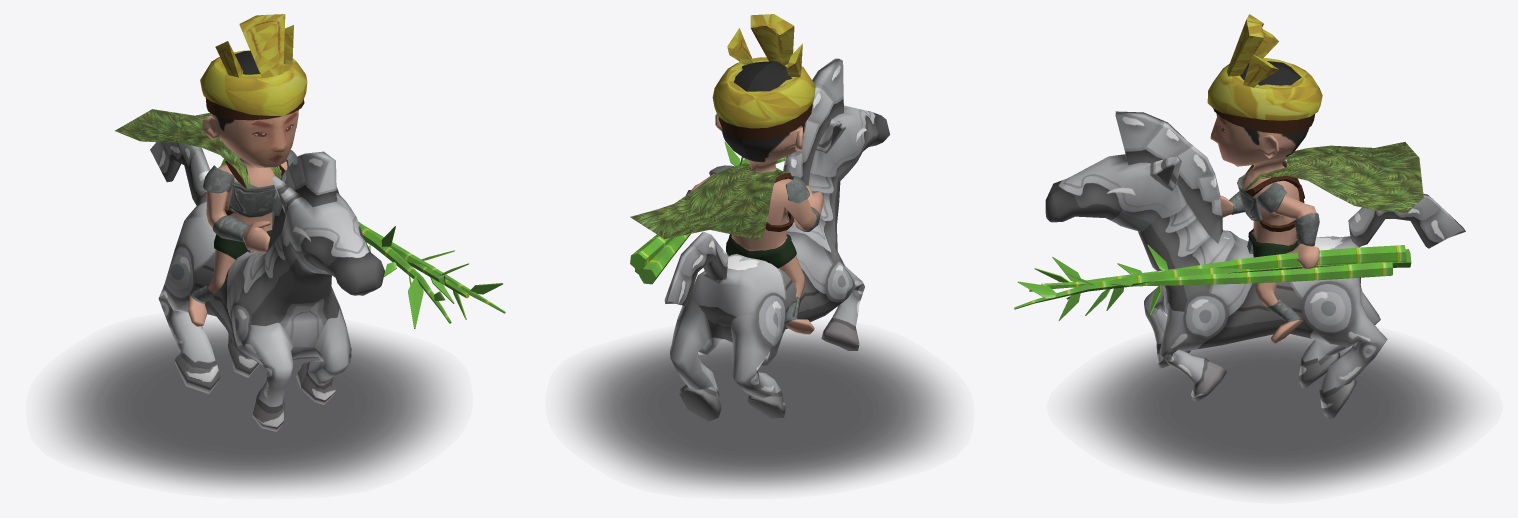
File: char_thanhgiong.glb
The picture shows the model from 3 angles, left to right: view 1: azimuth 30°, elevation 25°; view 2: azimuth 150°, elevation 25°; view 3: azimuth 270°, elevation 25°; orthographic projection. The views are drawn at different scales.
Parts seen in each view (by area): view 1: plane_shadow, ngua_sat1, thanh_giong2, cay_tre1, ao_choang1; view 2: plane_shadow, ngua_sat1, thanh_giong2, ao_choang1, cay_tre1; view 3: plane_shadow, ngua_sat1, thanh_giong2, cay_tre1, ao_choang1.
Boxes of the visible parts, x1=… form: plane_shadow: x1=47, y1=320, x2=451, y2=489; ngua_sat1: x1=150, y1=142, x2=384, y2=431; thanh_giong2: x1=188, y1=14, x2=307, y2=326; cay_tre1: x1=220, y1=159, x2=505, y2=328; ao_choang1: x1=115, y1=109, x2=281, y2=187; plane_shadow: x1=566, y1=328, x2=953, y2=490; ngua_sat1: x1=664, y1=58, x2=889, y2=421; thanh_giong2: x1=686, y1=14, x2=823, y2=334; ao_choang1: x1=630, y1=162, x2=787, y2=240; cay_tre1: x1=630, y1=142, x2=785, y2=284; plane_shadow: x1=1071, y1=334, x2=1478, y2=492; ngua_sat1: x1=1045, y1=111, x2=1465, y2=419; thanh_giong2: x1=1207, y1=14, x2=1322, y2=343; cay_tre1: x1=1014, y1=244, x2=1411, y2=320; ao_choang1: x1=1244, y1=142, x2=1423, y2=213.
Size of the model in its own units: 260 by 243 by 278.
Materials: 4 (4 with a texture image).
